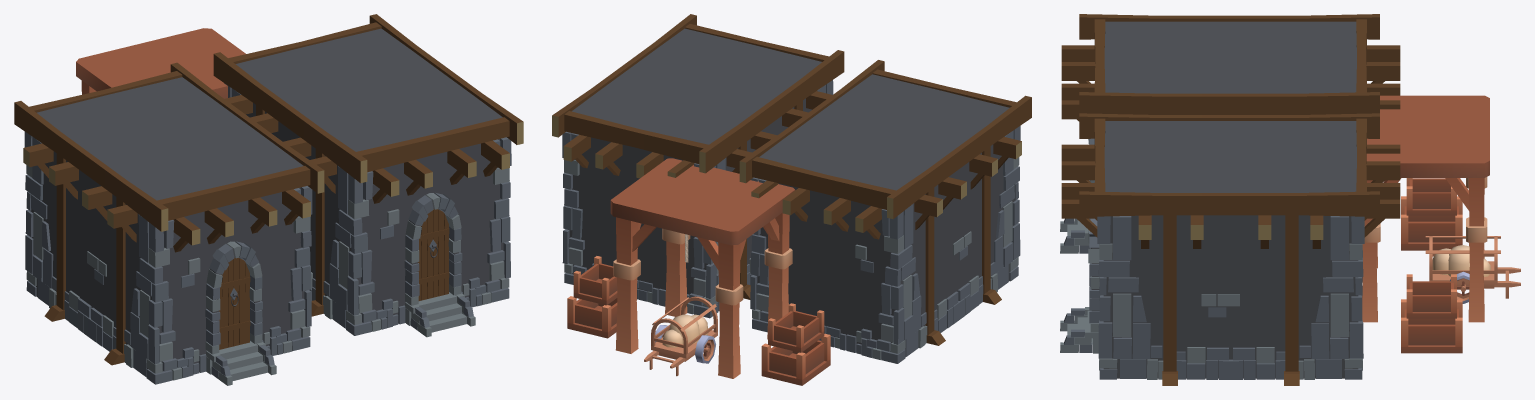
The model's file is london_bld_warehouse.glb.
The picture shows the model from 3 angles, left to right: view 1: azimuth 30°, elevation 25°; view 2: azimuth 150°, elevation 25°; view 3: azimuth 270°, elevation 25°; orthographic projection. The views are drawn at different scales.
Visible parts, largest first — view 1: House_4 (×2), structure; view 2: House_4 (×2), structure, crate (×4), cart-high, Group; view 3: House_4 (×2), structure, crate (×4), cart-high.
Part boxes in pixels (x1,y1,x2,y2): House_4 (×2): [14, 14, 523, 385]; structure: [76, 28, 245, 98]; House_4 (×2): [552, 14, 1031, 363]; structure: [610, 158, 795, 378]; crate (×4): [567, 256, 830, 385]; cart-high: [644, 296, 717, 376]; Group: [695, 335, 715, 363]; House_4 (×2): [1060, 14, 1400, 385]; structure: [1362, 95, 1489, 322]; crate (×4): [1401, 178, 1462, 353]; cart-high: [1425, 236, 1520, 298].
Size of the model in its own units: 22.04 by 9.66 by 21.56.
Materials: 10 (5 with a texture image).
